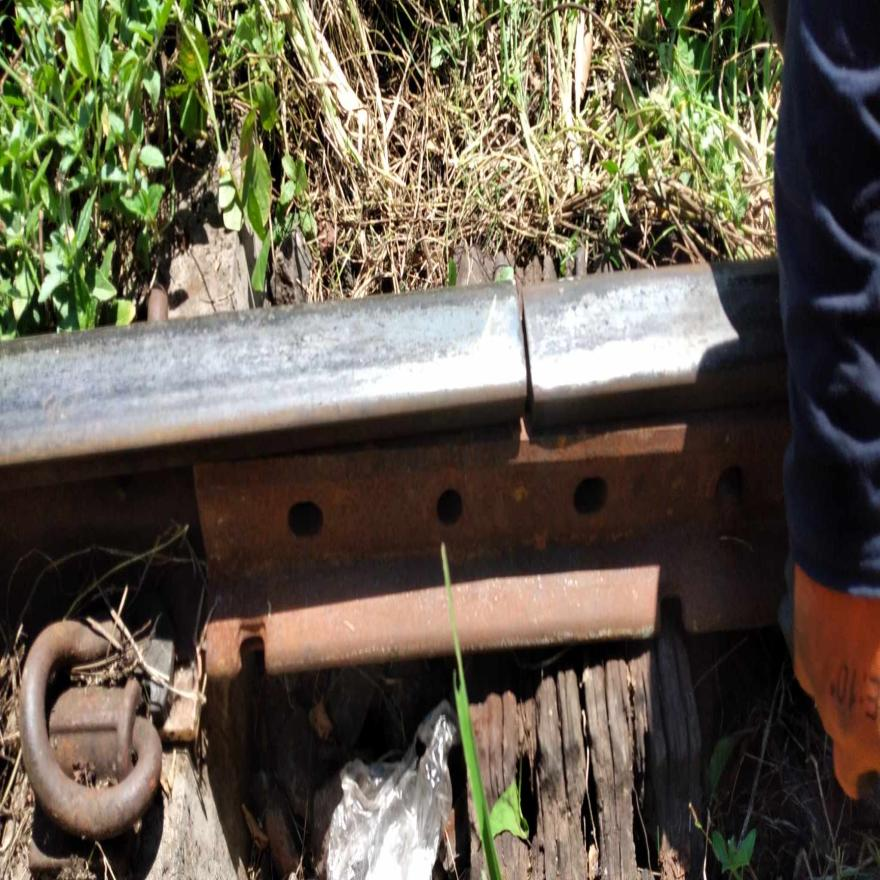railway-gap: (473, 258, 577, 447)
